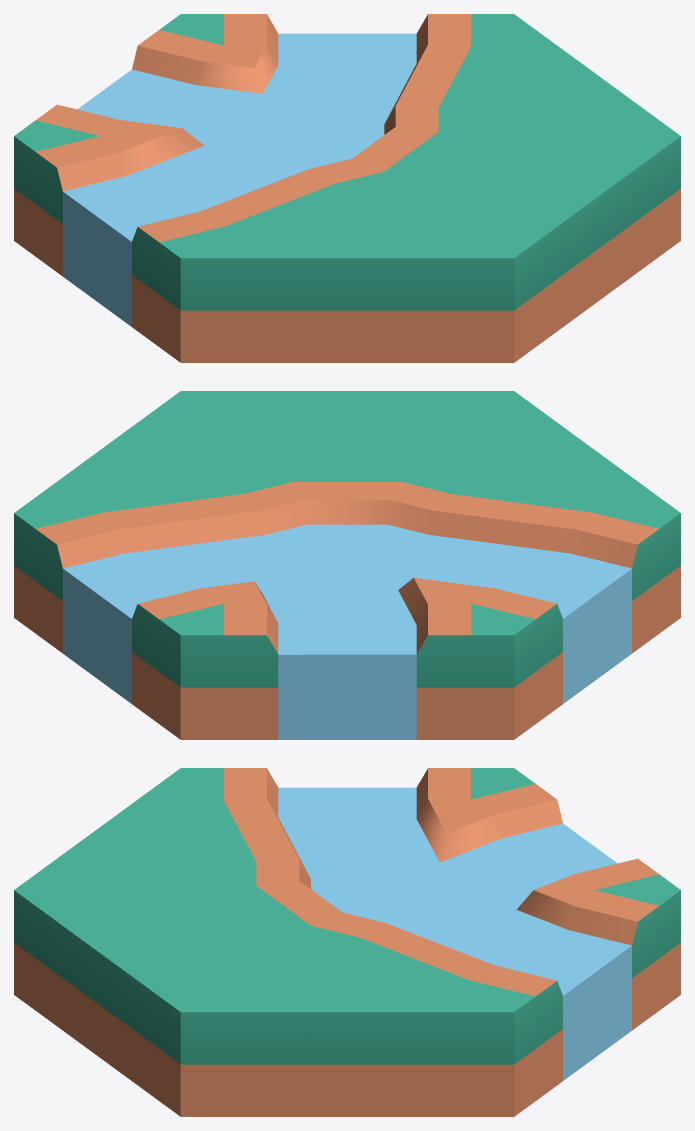
Rendered from river-intersectionA.glb.
The picture shows the model from 3 angles, top to bottom: view 1: azimuth 30°, elevation 25°; view 2: azimuth 150°, elevation 25°; view 3: azimuth 270°, elevation 25°; orthographic projection.
Visible parts, largest first — view 1: river-intersectionA; view 2: river-intersectionA; view 3: river-intersectionA.
Part boxes in pixels (x1,y1,x2,y2): river-intersectionA: (14,14,680,362); river-intersectionA: (14,391,680,739); river-intersectionA: (14,768,680,1116).
Size of the model in its own units: 1 by 0.2 by 1.15.
1 material, 1 textured.
